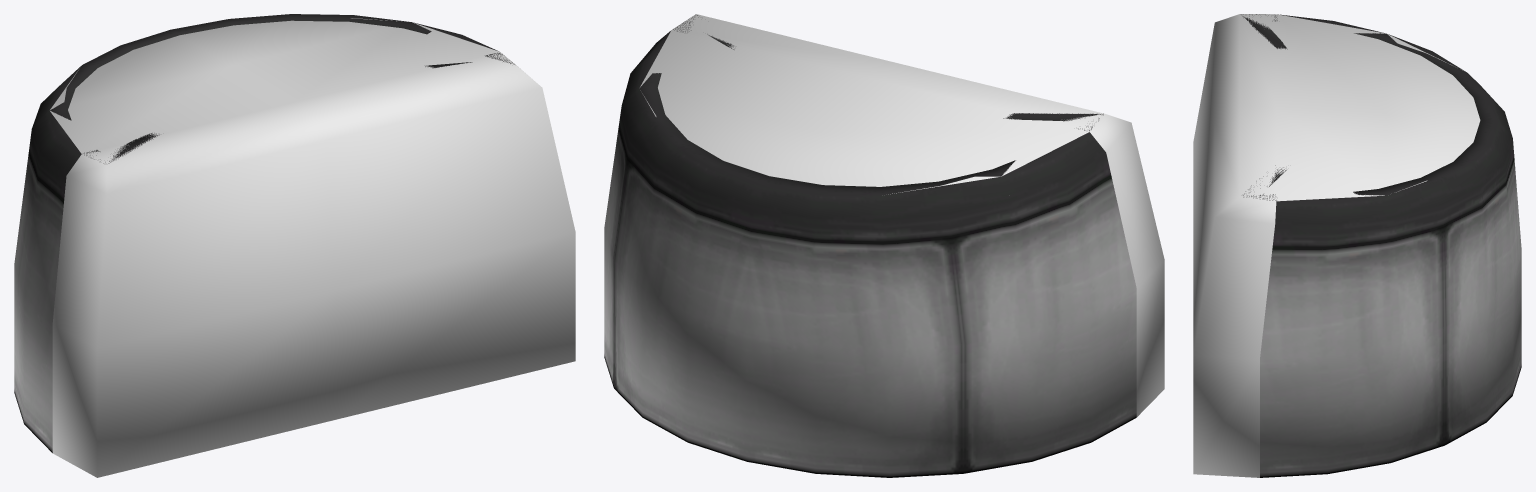
The model's file is RBIntake.fbx.
The picture shows the model from 3 angles, left to right: view 1: azimuth 30°, elevation 25°; view 2: azimuth 150°, elevation 25°; view 3: azimuth 270°, elevation 25°; orthographic projection. The views are drawn at different scales.
Visible parts, largest first — view 1: RBIntakeCol, RBIntake; view 2: RBIntake, RBIntakeCol; view 3: RBIntake, RBIntakeCol.
Boxes of the visible parts, x1,y1,x2,y2 form: RBIntakeCol: (50, 18, 575, 477); RBIntake: (14, 14, 514, 452); RBIntake: (604, 14, 1136, 477); RBIntakeCol: (640, 14, 1164, 417); RBIntake: (1241, 14, 1521, 477); RBIntakeCol: (1193, 14, 1480, 477).
Size of the model in its own units: 63 by 34.78 by 39.5.
Materials: 1 (1 with a texture image).
